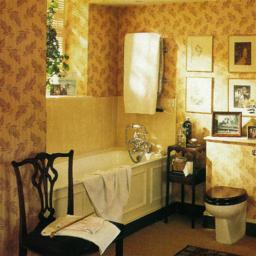Sanitario: (202, 186, 249, 243)
